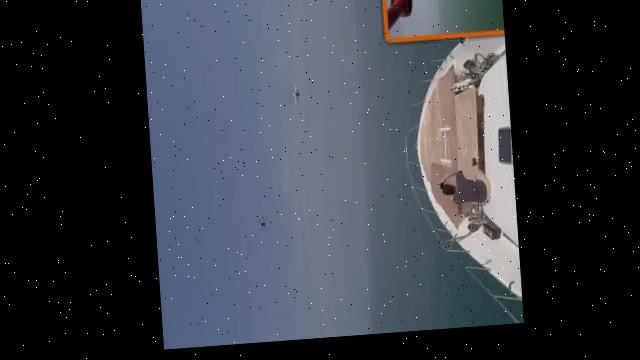drone: (285, 88, 304, 113), (246, 216, 267, 236)
